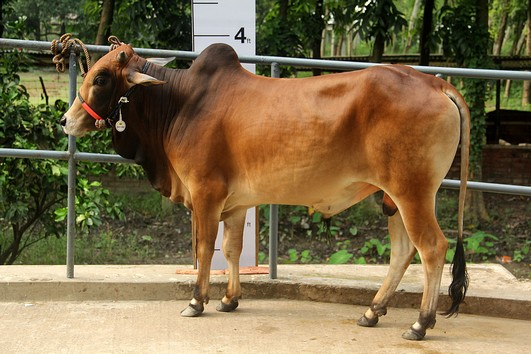cow: (56, 37, 477, 341)
